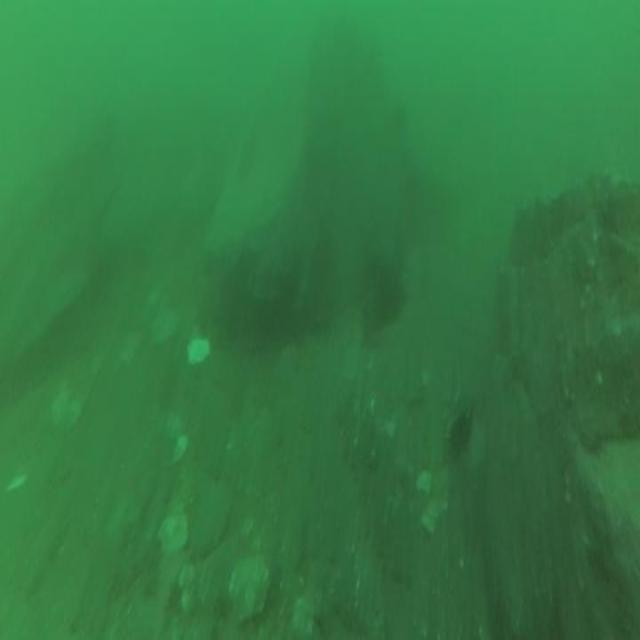echinus: (374, 265, 409, 335), (449, 406, 472, 463)
scallop: (228, 553, 273, 623), (159, 500, 189, 560), (150, 302, 178, 352), (187, 332, 213, 373)
